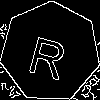R: (25, 27, 72, 81)
